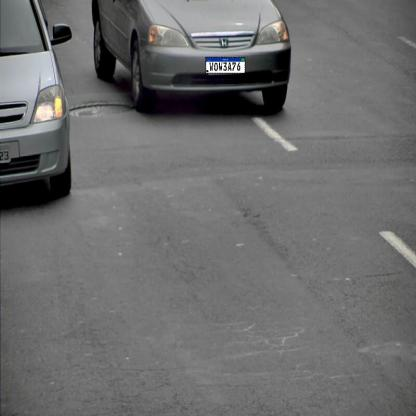PlacaM: (206, 57, 246, 73)
